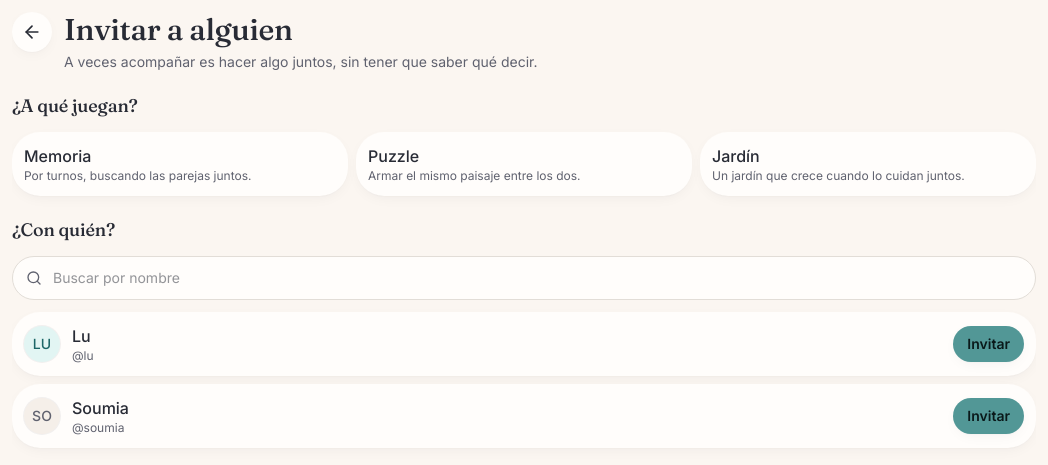
GameInvitePage › filters by name and puts the preselected person first
The image size is (1048, 465).
Type "sou" into the search field with placeholder "Buscar por nombre" at (524, 278), box x1=12 y1=256 x2=1036 y2=300
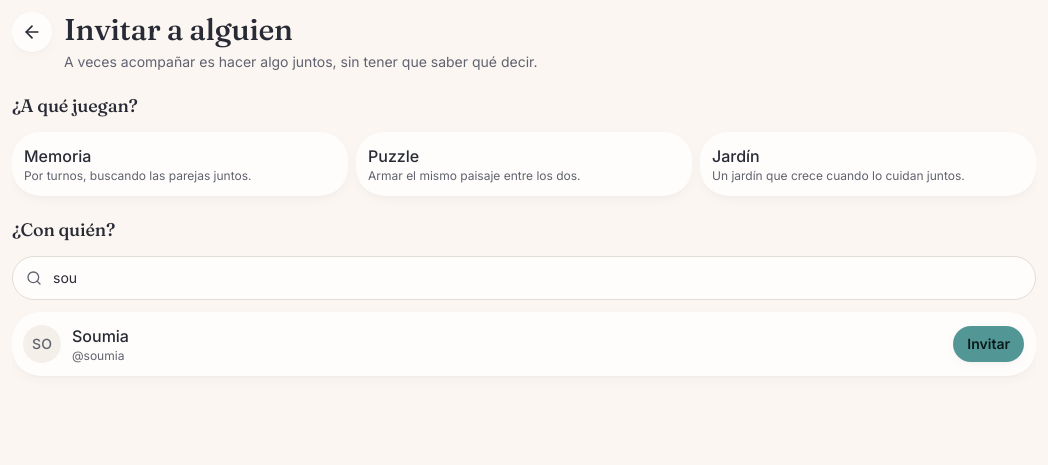
Expected: the number of buttons named "Invitar a " is 1, x1=953 y1=326 x2=1024 y2=362
